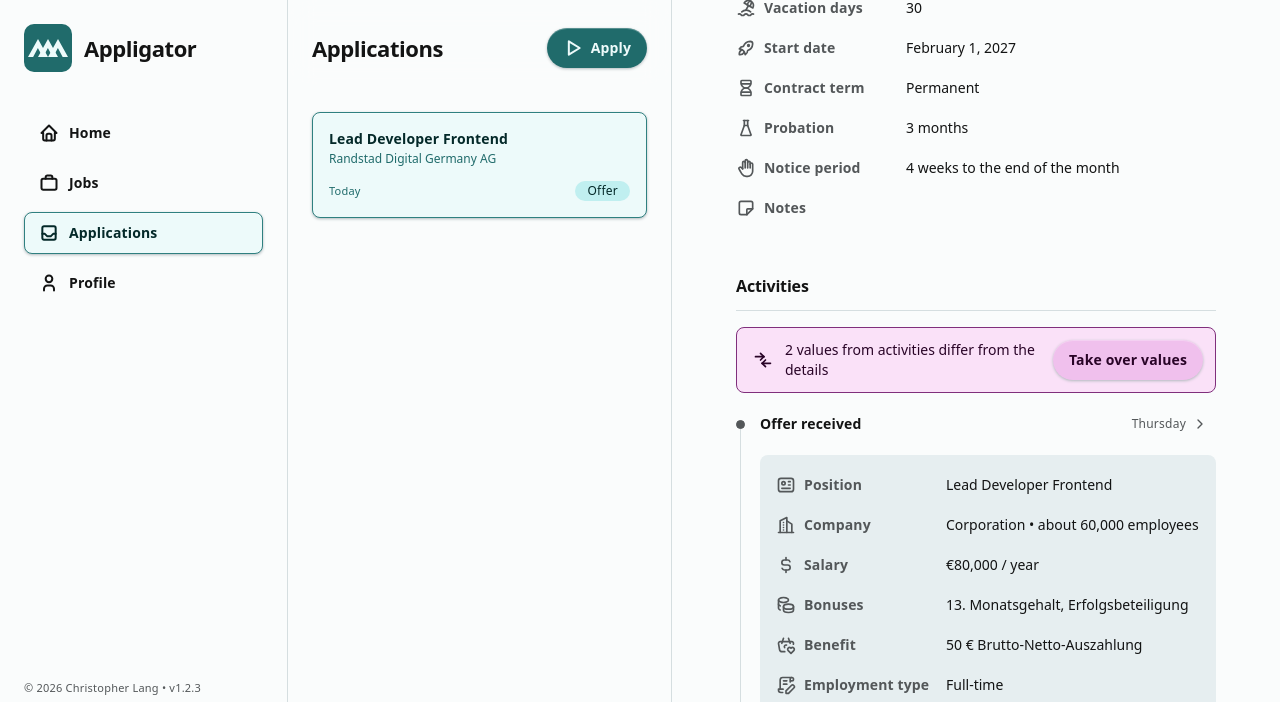
Test: takes over the chosen values into the details
(page scrolled)
Click the button "Take over values". click: coordinates (1128, 360)
box: x1=1053 y1=340 x2=1203 y2=380
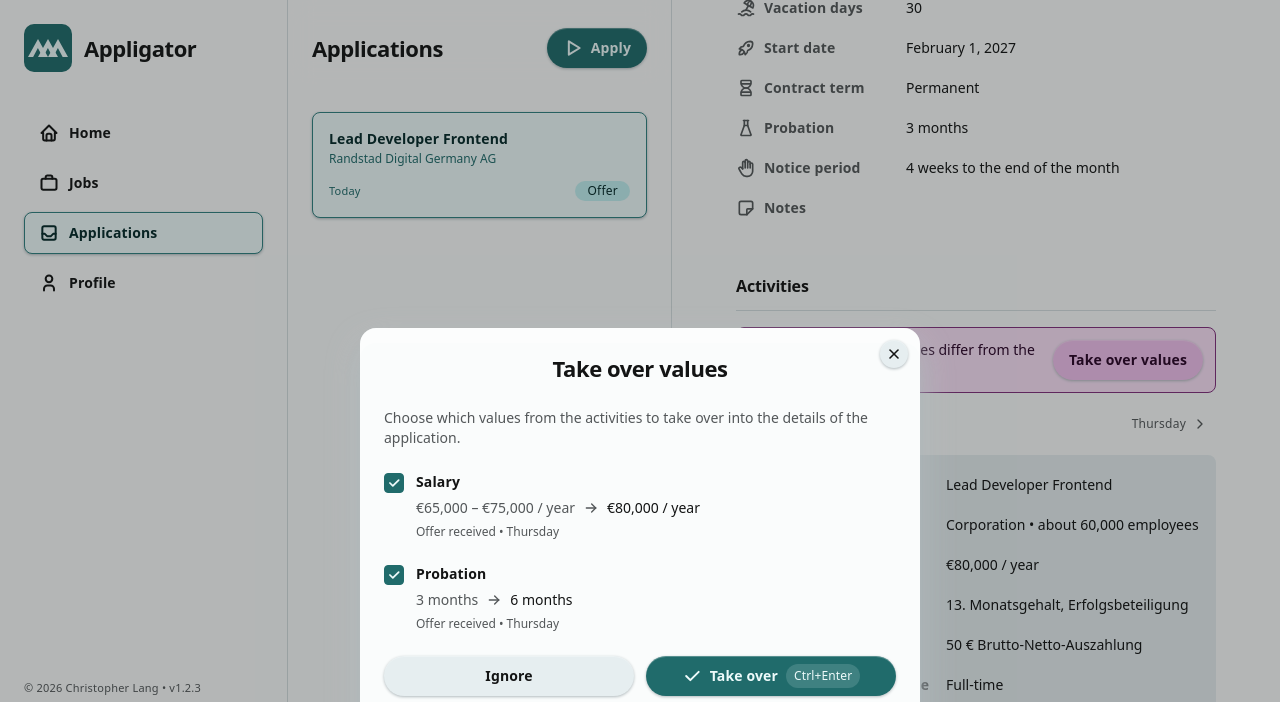
Click the 2nd checkbox named "Probation". click: coordinates (394, 575)
box: x1=384 y1=565 x2=404 y2=585
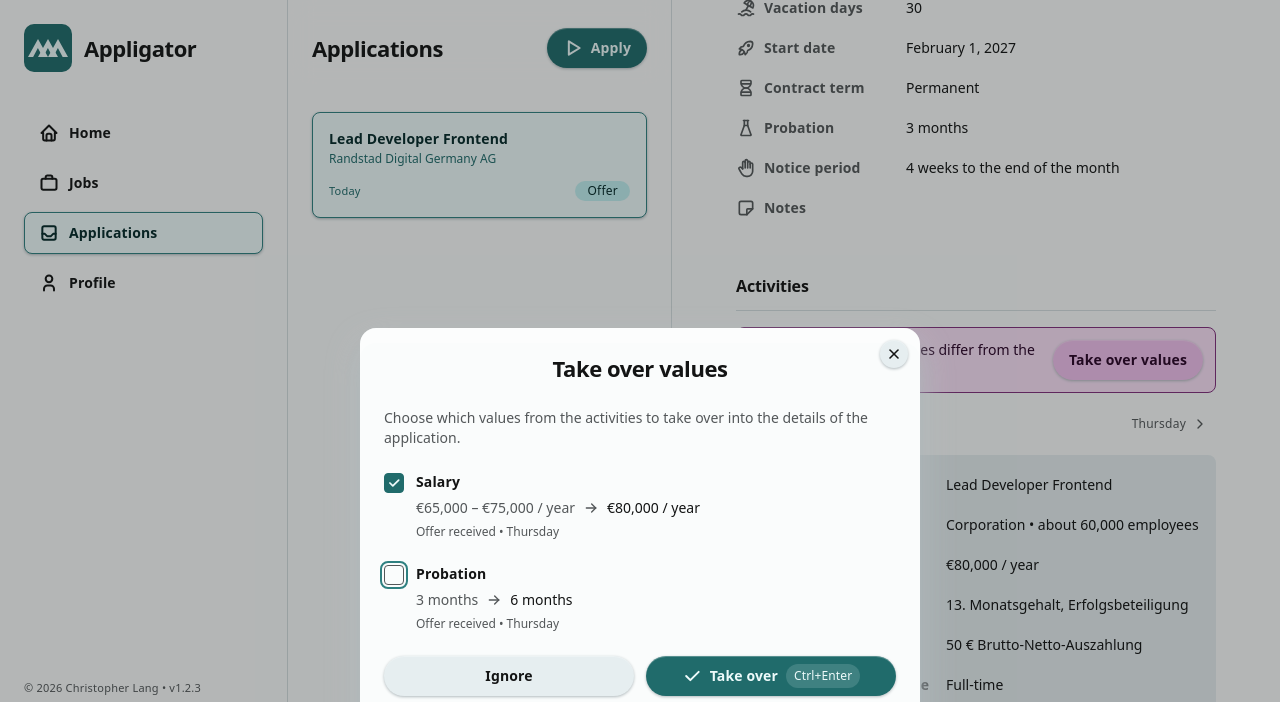
Click the button "Take over Ctrl+Enter". click: coordinates (771, 676)
box: x1=646 y1=656 x2=896 y2=696
(page scrolled)
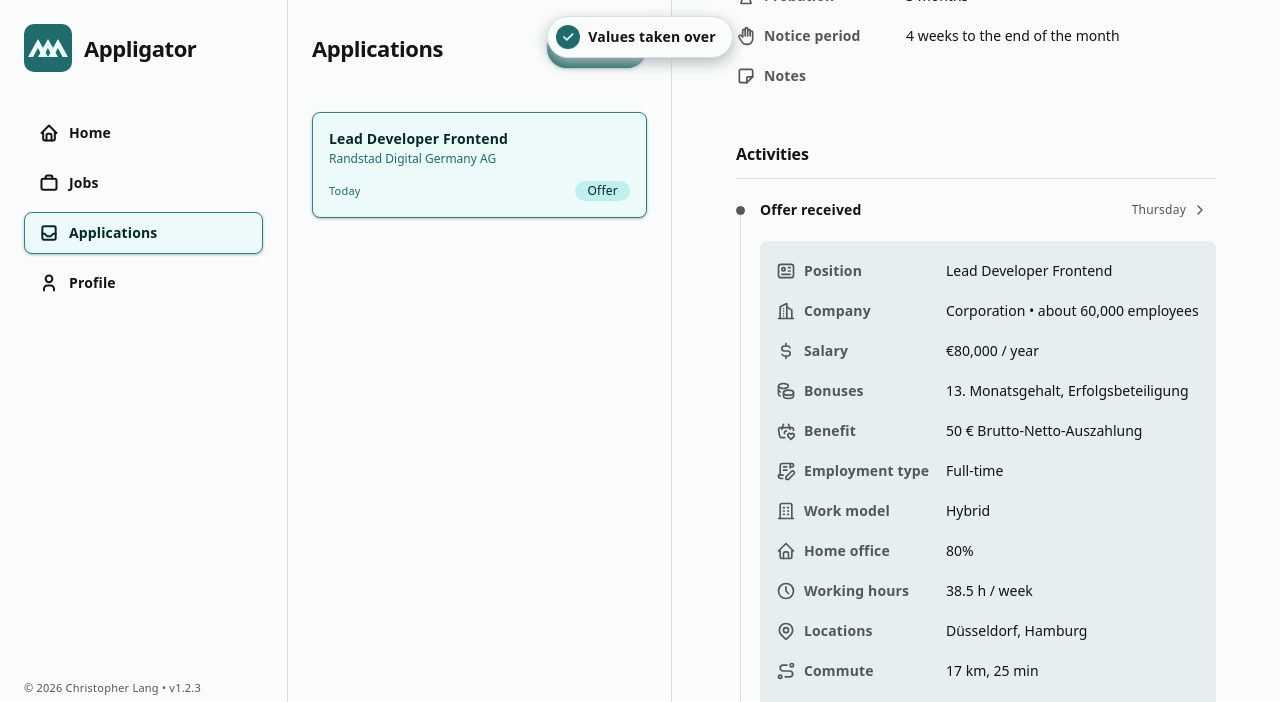
Now the heading "Values taken over" is shown, box x1=588 y1=27 x2=716 y2=47
Now the text "differ from the details" is gone
